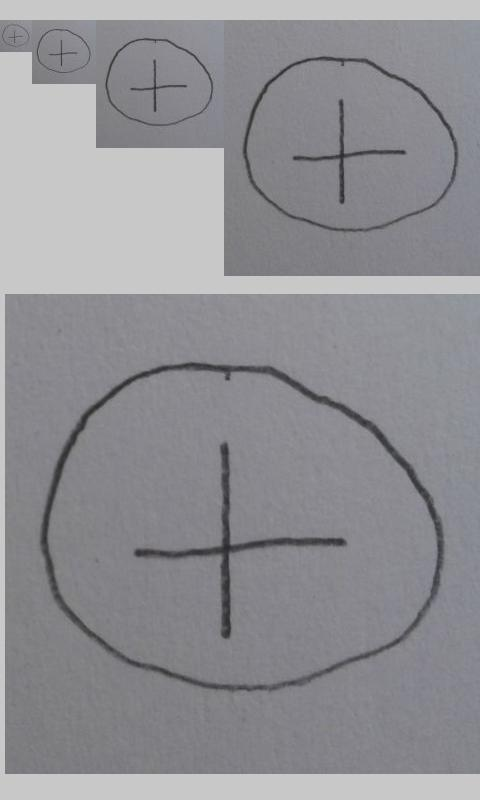button: (39, 359, 447, 697), (242, 56, 459, 233), (104, 36, 215, 127), (36, 28, 91, 74), (2, 24, 30, 48)
